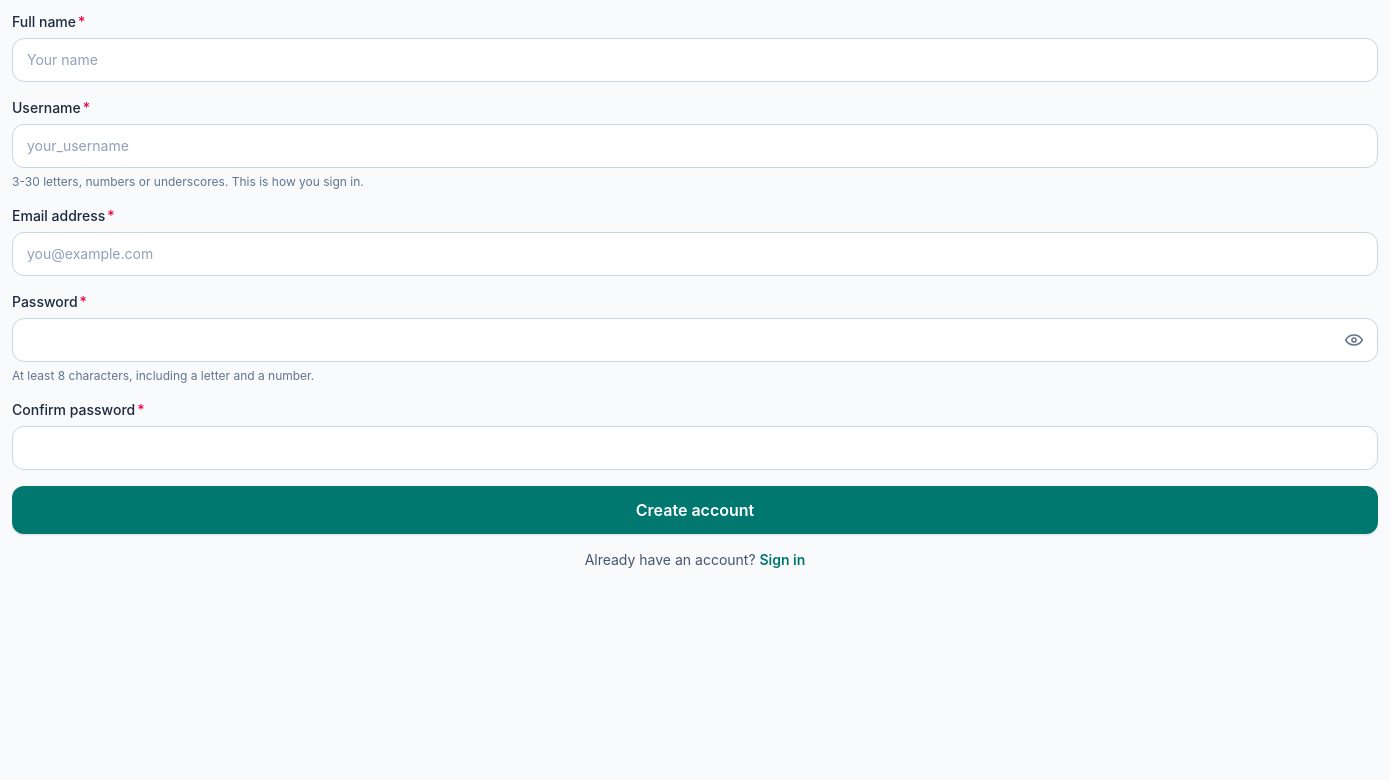
Test: RegisterForm › requires a valid username
The width and height of the screenshot is (1390, 780).
Click the button "Create account". click: (695, 510)
box: [12,486,1378,534]
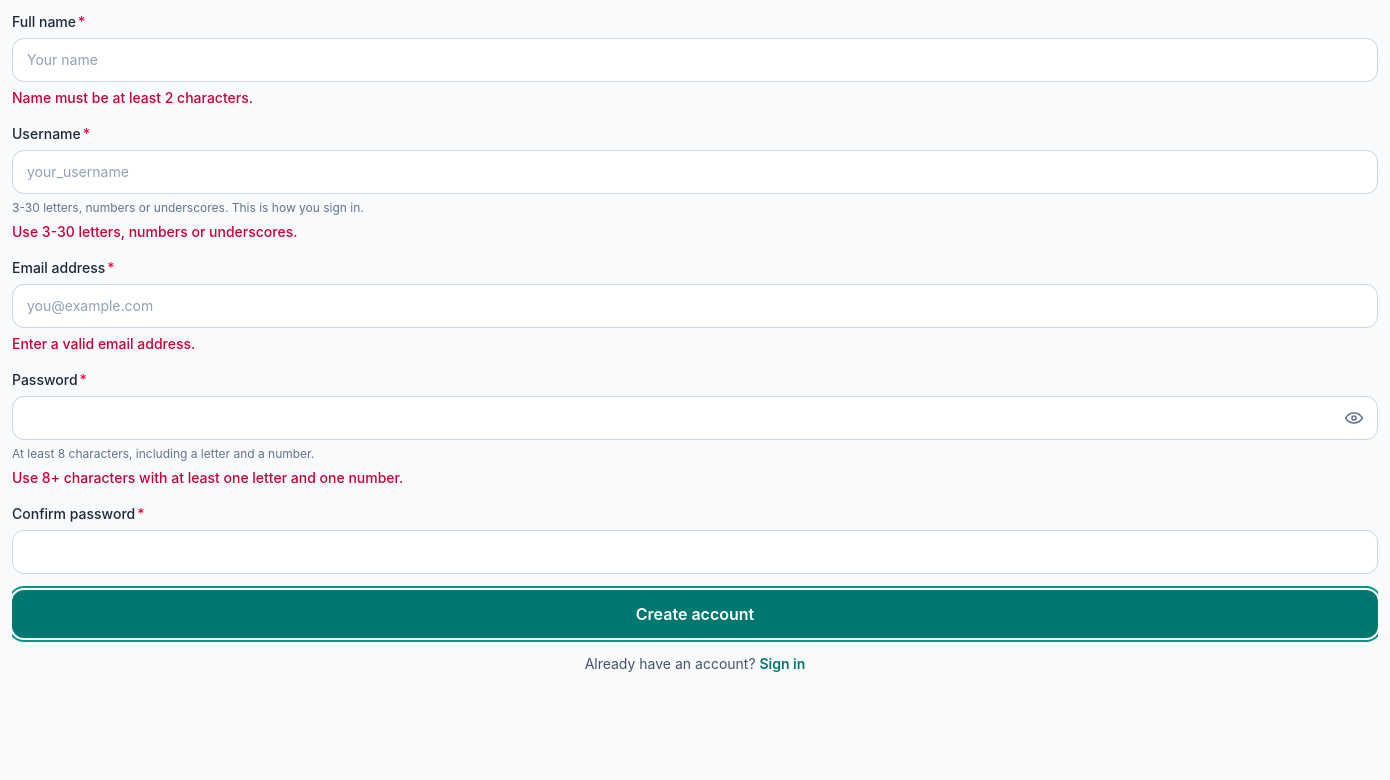
Expected: the text "Use 3-30 letters, numbers or underscores." is shown, [12,223,298,240]
